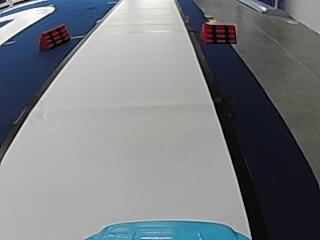bomb: (39, 22, 70, 49)
